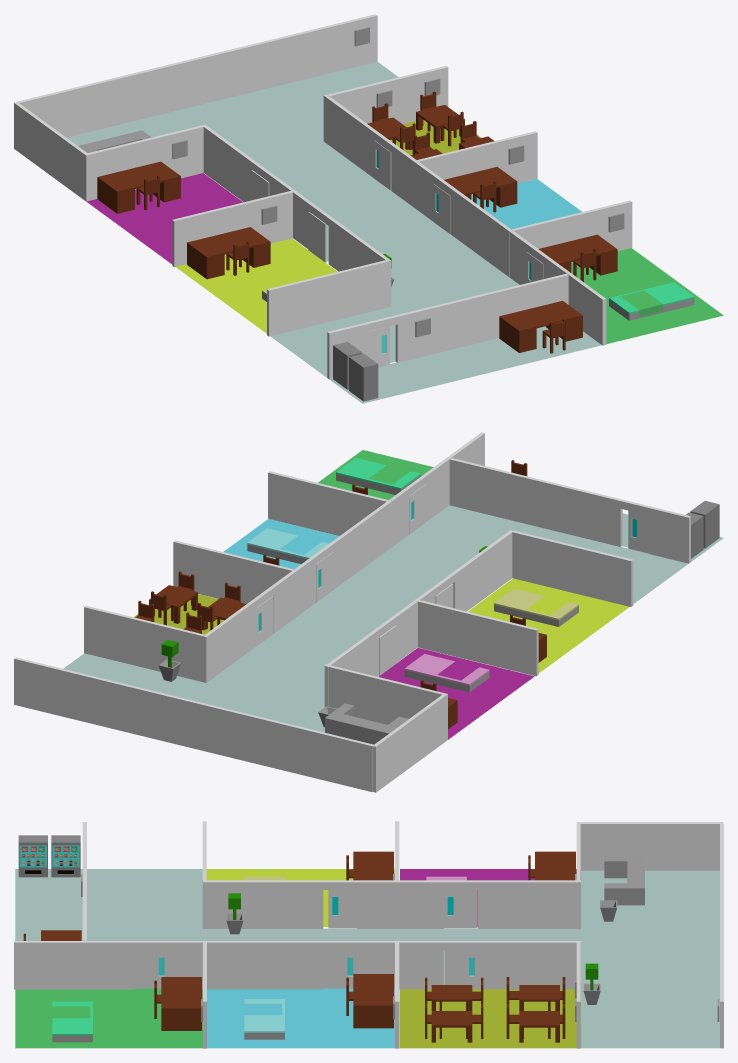
Rendered from EnvironmentAssets.fbx.
3 renders of one model, top to bottom at view 1: azimuth 30°, elevation 25°; view 2: azimuth 150°, elevation 25°; view 3: azimuth 270°, elevation 25°, orthographic.
Parts seen in each view (by area): view 1: ExitWall, CorridorFloor, CorridorFloor1, CorridorWallB, BreakRoomWall, CorridorWallA, WallRoomAB1, BreakRoomFloor, RoomFloorB, RoomFloorD, RoomFloorA, WallRoomAB (+24 smaller); view 2: ExitWall, CorridorFloor, BreakRoomWall, CorridorWallB, CorriorFloorB, CorridorWallA, WallRoomAB1, WallRoomAB, WallExitVisit, CorridorFloor1, WallRoomCD, WallVisitRoomC (+22 smaller); view 3: CorridorFloor1, CorridorWallA, CorridorWallB, CorriorFloorB, RoomFloorC, RoomFloorD, polySurface15, VisitRoomFloor, ReceptionWall, CorridorFloor, BreakRoomFloor, pCube10 (+28 smaller).
Boxes of the visible parts, x1=… form: ExitWall: x1=17, y1=14, x2=377, y2=137; CorridorFloor: x1=253, y1=141, x2=508, y2=305; CorridorFloor1: x1=67, y1=61, x2=398, y2=158; CorridorWallB: x1=323, y1=95, x2=512, y2=277; BreakRoomWall: x1=327, y1=273, x2=568, y2=379; CorridorWallA: x1=202, y1=125, x2=391, y2=307; WallRoomAB1: x1=267, y1=260, x2=387, y2=336; BreakRoomFloor: x1=329, y1=326, x2=601, y2=403; RoomFloorB: x1=176, y1=238, x2=337, y2=333; RoomFloorD: x1=571, y1=248, x2=723, y2=344; RoomFloorA: x1=86, y1=173, x2=243, y2=264; WallRoomAB: x1=172, y1=191, x2=292, y2=267; ExitWall: x1=14, y1=657, x2=373, y2=791; CorridorFloor: x1=207, y1=547, x2=462, y2=710; BreakRoomWall: x1=449, y1=458, x2=690, y2=563; CorridorWallB: x1=203, y1=500, x2=392, y2=682; CorriorFloorB: x1=392, y1=505, x2=688, y2=603; CorridorWallA: x1=325, y1=530, x2=513, y2=706; WallRoomAB1: x1=512, y1=530, x2=633, y2=606; WallRoomAB: x1=418, y1=600, x2=538, y2=676; WallExitVisit: x1=84, y1=605, x2=204, y2=681; CorridorFloor1: x1=63, y1=653, x2=324, y2=732; WallRoomCD: x1=268, y1=471, x2=388, y2=535; WallVisitRoomC: x1=173, y1=540, x2=293, y2=603; CorridorFloor1: x1=581, y1=870, x2=719, y2=1048; CorridorWallA: x1=203, y1=880, x2=580, y2=928; CorridorWallB: x1=203, y1=941, x2=580, y2=989; CorriorFloorB: x1=87, y1=869, x2=203, y2=987; RoomFloorC: x1=207, y1=988, x2=394, y2=1048; RoomFloorD: x1=15, y1=988, x2=202, y2=1048; polySurface15: x1=14, y1=941, x2=202, y2=989; VisitRoomFloor: x1=399, y1=988, x2=580, y2=1048; ReceptionWall: x1=580, y1=822, x2=723, y2=870; CorridorFloor: x1=204, y1=928, x2=580, y2=984; BreakRoomFloor: x1=15, y1=869, x2=82, y2=940; pCube10: x1=353, y1=974, x2=393, y2=1028.
Size of the model in its own units: 24.81 by 3.02 by 41.29.
